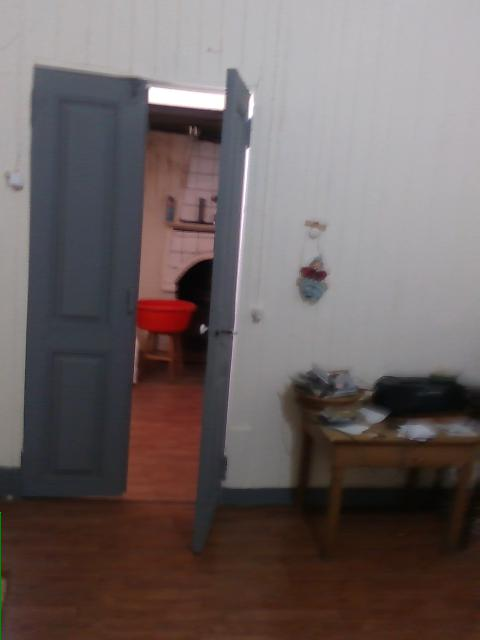semi_door: (21, 63, 256, 557)
